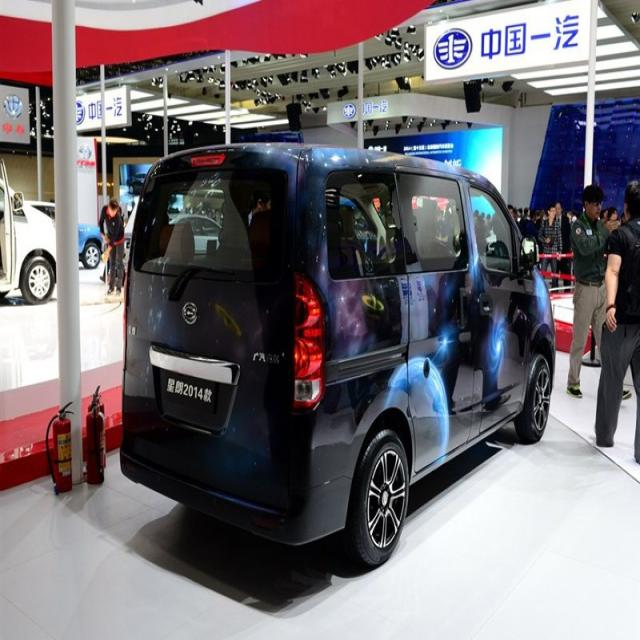back_glass: (133, 159, 293, 279)
back_right_side_light: (289, 272, 327, 419)
door: (393, 168, 483, 465)
front_right_side_door: (461, 172, 529, 436)
front_right_side_mirror: (518, 232, 538, 274)
rear_bumper: (118, 422, 352, 548)
wheel: (349, 427, 409, 562), (522, 355, 552, 439)
